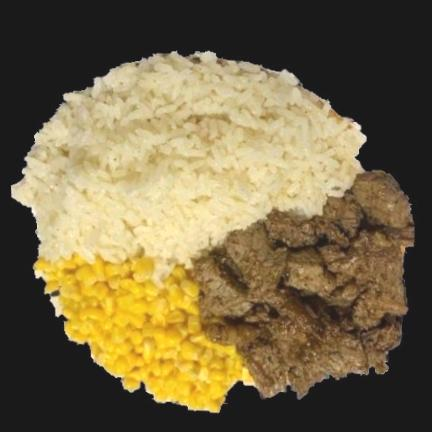corn: (34, 260, 251, 410)
meat: (194, 176, 413, 393)
rice: (22, 57, 358, 256)
